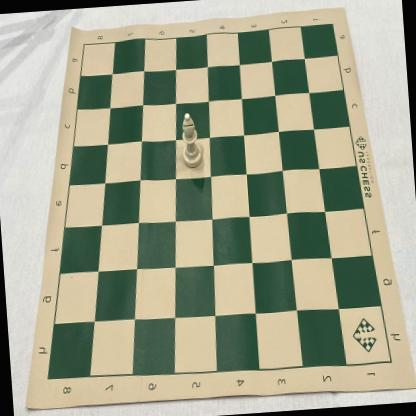white-bishop: (179, 111, 204, 170)
